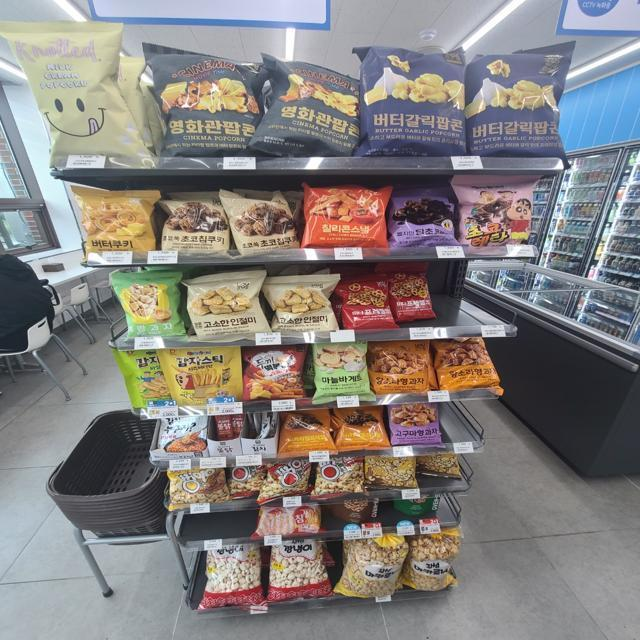product: (148, 44, 264, 161), (469, 44, 574, 159), (354, 50, 466, 154), (268, 59, 358, 155), (456, 176, 538, 256), (302, 182, 388, 257), (74, 186, 155, 262), (183, 277, 268, 344), (111, 272, 190, 344), (220, 188, 296, 258), (158, 193, 232, 262), (263, 274, 341, 337), (173, 348, 240, 411), (389, 193, 457, 252), (314, 342, 372, 402), (435, 339, 499, 393), (372, 342, 431, 396), (342, 278, 392, 330)
